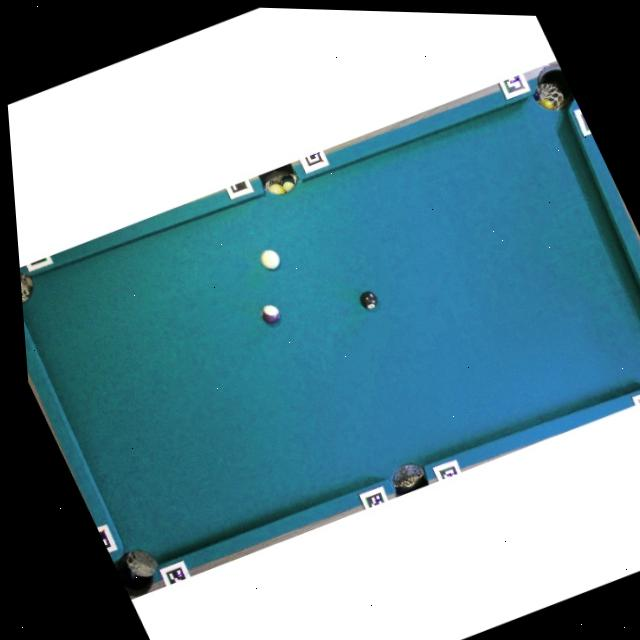cue ball: (255, 245, 285, 273)
other: (257, 301, 284, 327), (356, 287, 380, 312)
